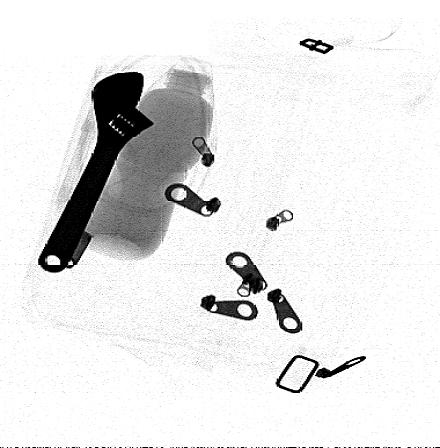Wrench: (36, 72, 157, 275)
